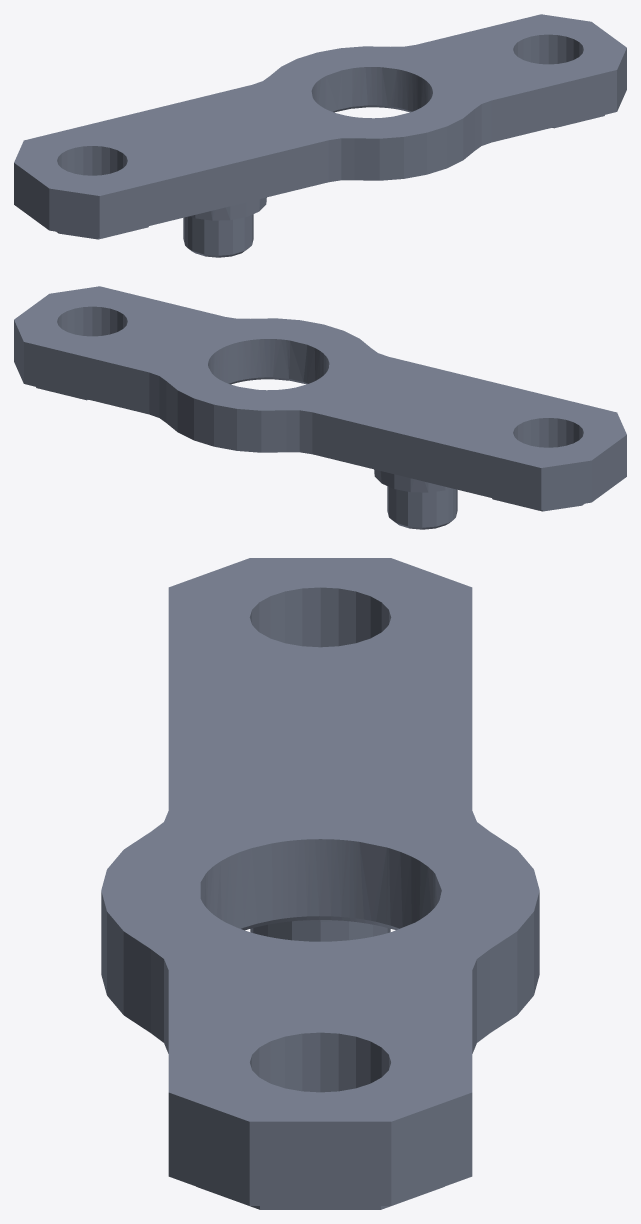
The model's file is gearBoxTop_grey.dae.
3 views of the same model, one above another, from view 1: azimuth 30°, elevation 25°; view 2: azimuth 150°, elevation 25°; view 3: azimuth 270°, elevation 25° (orthographic). The views are drawn at different scales.
Parts seen in each view (by area): view 1: gearBoxTop_v3; view 2: gearBoxTop_v3; view 3: gearBoxTop_v3.
Boxes of the visible parts, box(x1,y1,x2,y2) form: gearBoxTop_v3: box(14, 14, 626, 257); gearBoxTop_v3: box(14, 286, 626, 529); gearBoxTop_v3: box(101, 558, 539, 1209).
Size of the model in its own units: 0.1704 by 0.056 by 0.0323.
